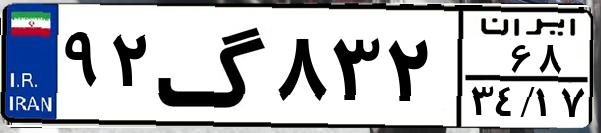1: (535, 70, 560, 125)
2: (385, 28, 445, 110), (110, 28, 156, 98)
3: (330, 28, 385, 110), (470, 70, 495, 125)
4: (495, 70, 520, 125)
6: (508, 27, 537, 80)
7: (560, 70, 590, 125)
8: (270, 28, 330, 110), (537, 27, 568, 80)
9: (57, 26, 110, 100)
گ: (156, 12, 270, 120)
